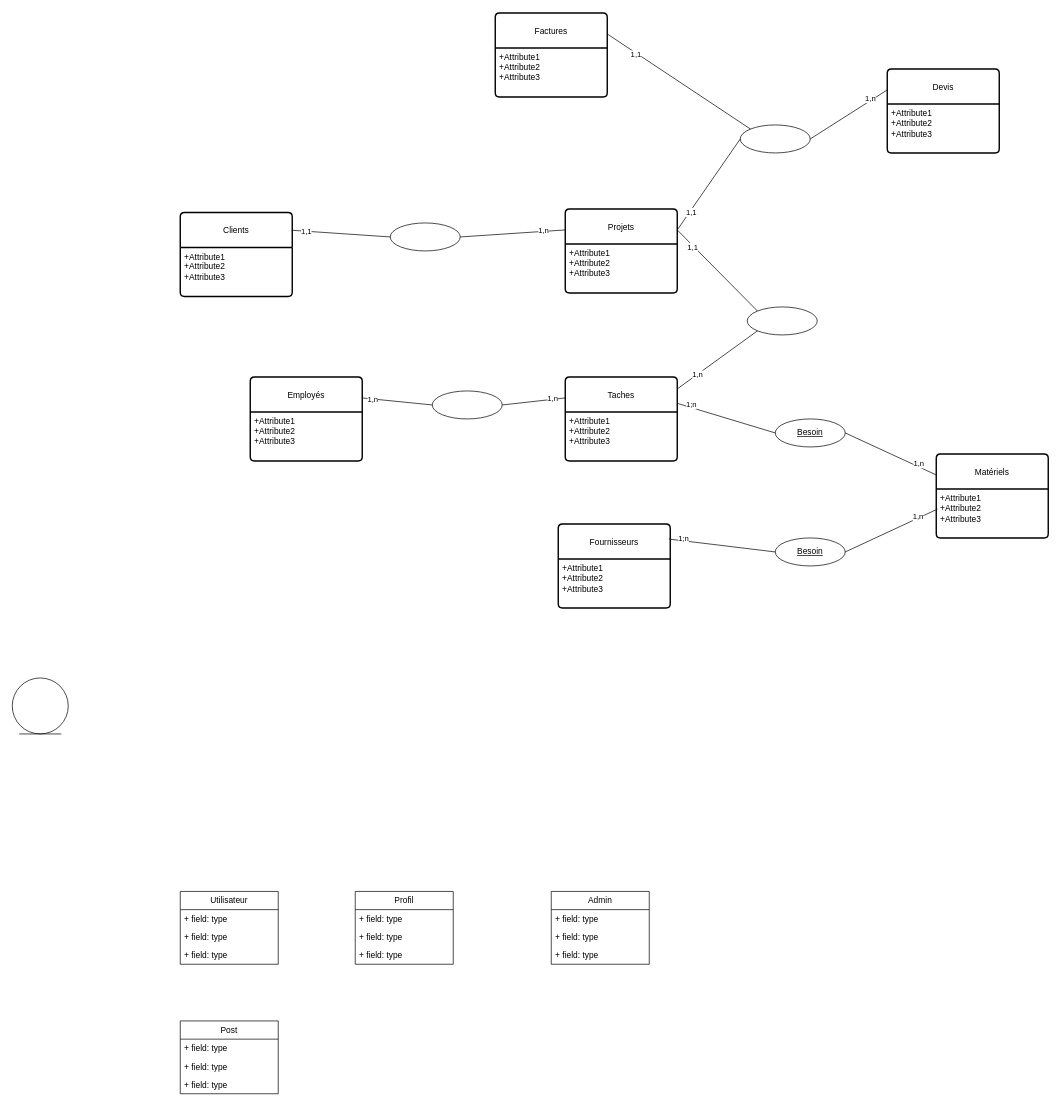
Some shapes in this 1061 by 1107 pixel diagram are drawn without their labels. The shapes that lost their labels are listed below. From the top down, each one's centre as x and y in pixels, then its label:
point (775, 138): Avoir
point (425, 236): Donner
point (782, 320): Contient
point (467, 404): exécute
point (40, 705): Entity Object
